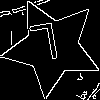L: (27, 22, 63, 72)
